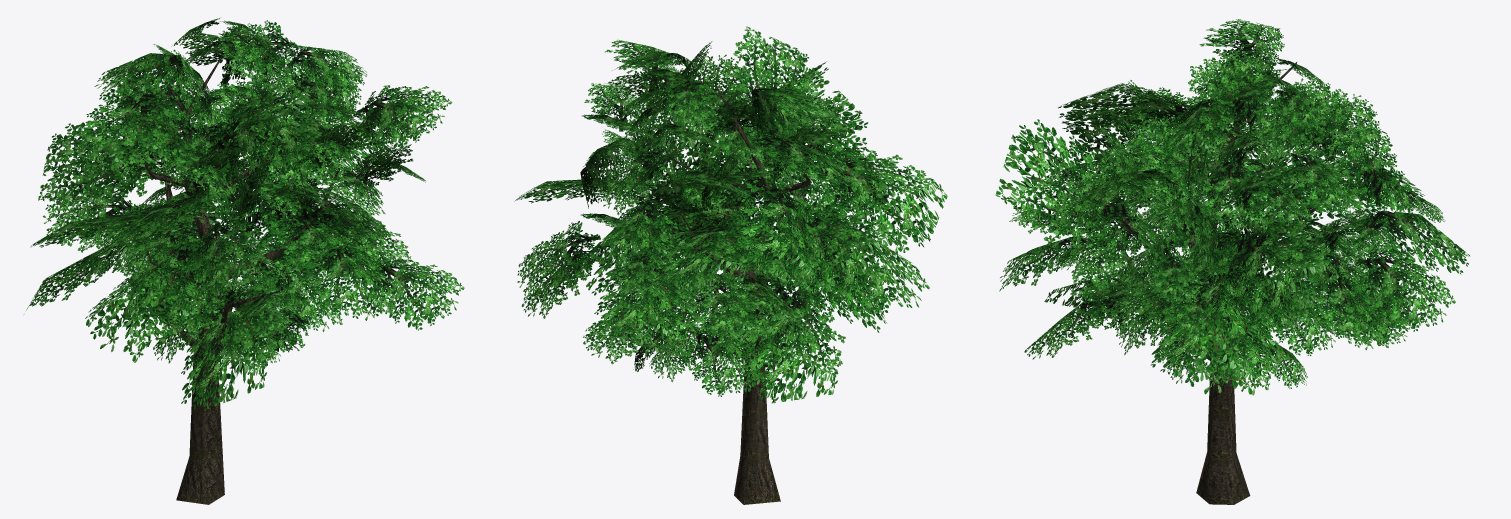
The model's file is tree_b.FBX.
3 renders of one model, left to right at view 1: azimuth 30°, elevation 25°; view 2: azimuth 150°, elevation 25°; view 3: azimuth 270°, elevation 25°, orthographic. The views are drawn at different scales.
Visible parts, largest first — view 1: tree_b; view 2: tree_b; view 3: tree_b.
Part boxes in pixels (bbox=[...]): tree_b: bbox=[26, 18, 464, 504]; tree_b: bbox=[514, 26, 947, 504]; tree_b: bbox=[995, 19, 1470, 504].
Bounding box in the file's own units: 8.26 × 9.47 × 9.22.
2 materials, 2 textured.
